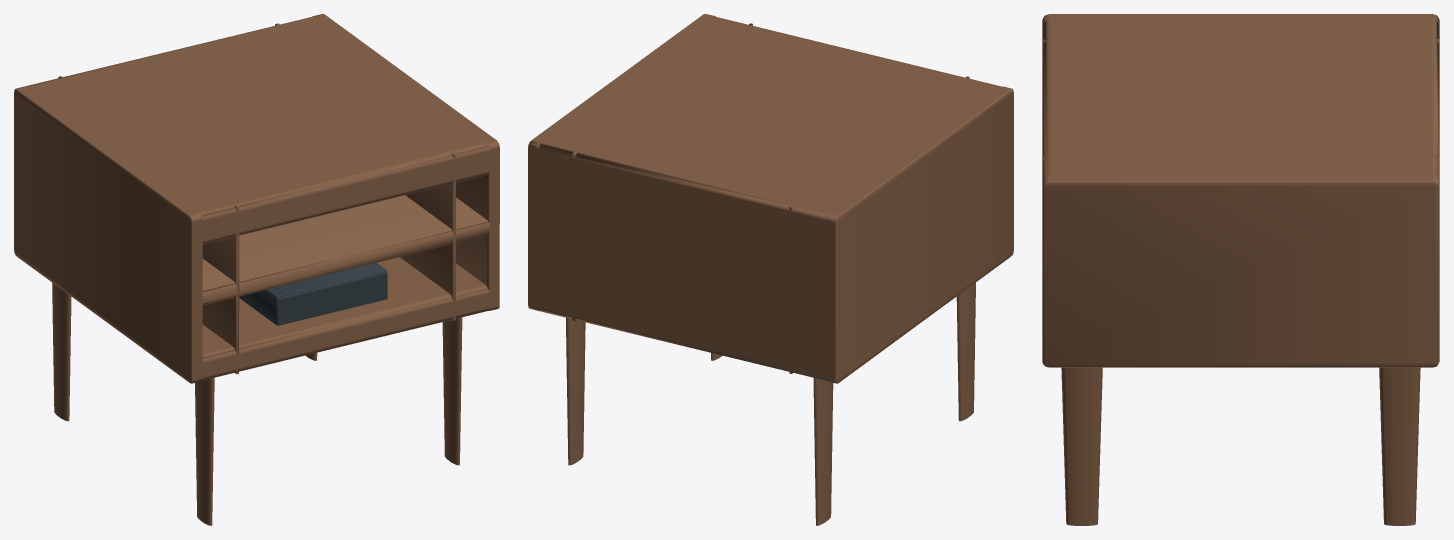
The model's file is cabinet-3-6.lod.glb.
3 views of the same model, side by side, from view 1: azimuth 30°, elevation 25°; view 2: azimuth 150°, elevation 25°; view 3: azimuth 270°, elevation 25° (orthographic). The views are drawn at different scales.
Parts seen in each view (by area): view 1: part, media-player; view 2: part; view 3: part.
Boxes of the visible parts, x1,y1,x2,y2 form: part: (14, 14, 499, 525); media-player: (239, 262, 387, 325); part: (528, 14, 1013, 525); part: (1042, 14, 1439, 525).
Size of the model in its own units: 1 by 1 by 1.
